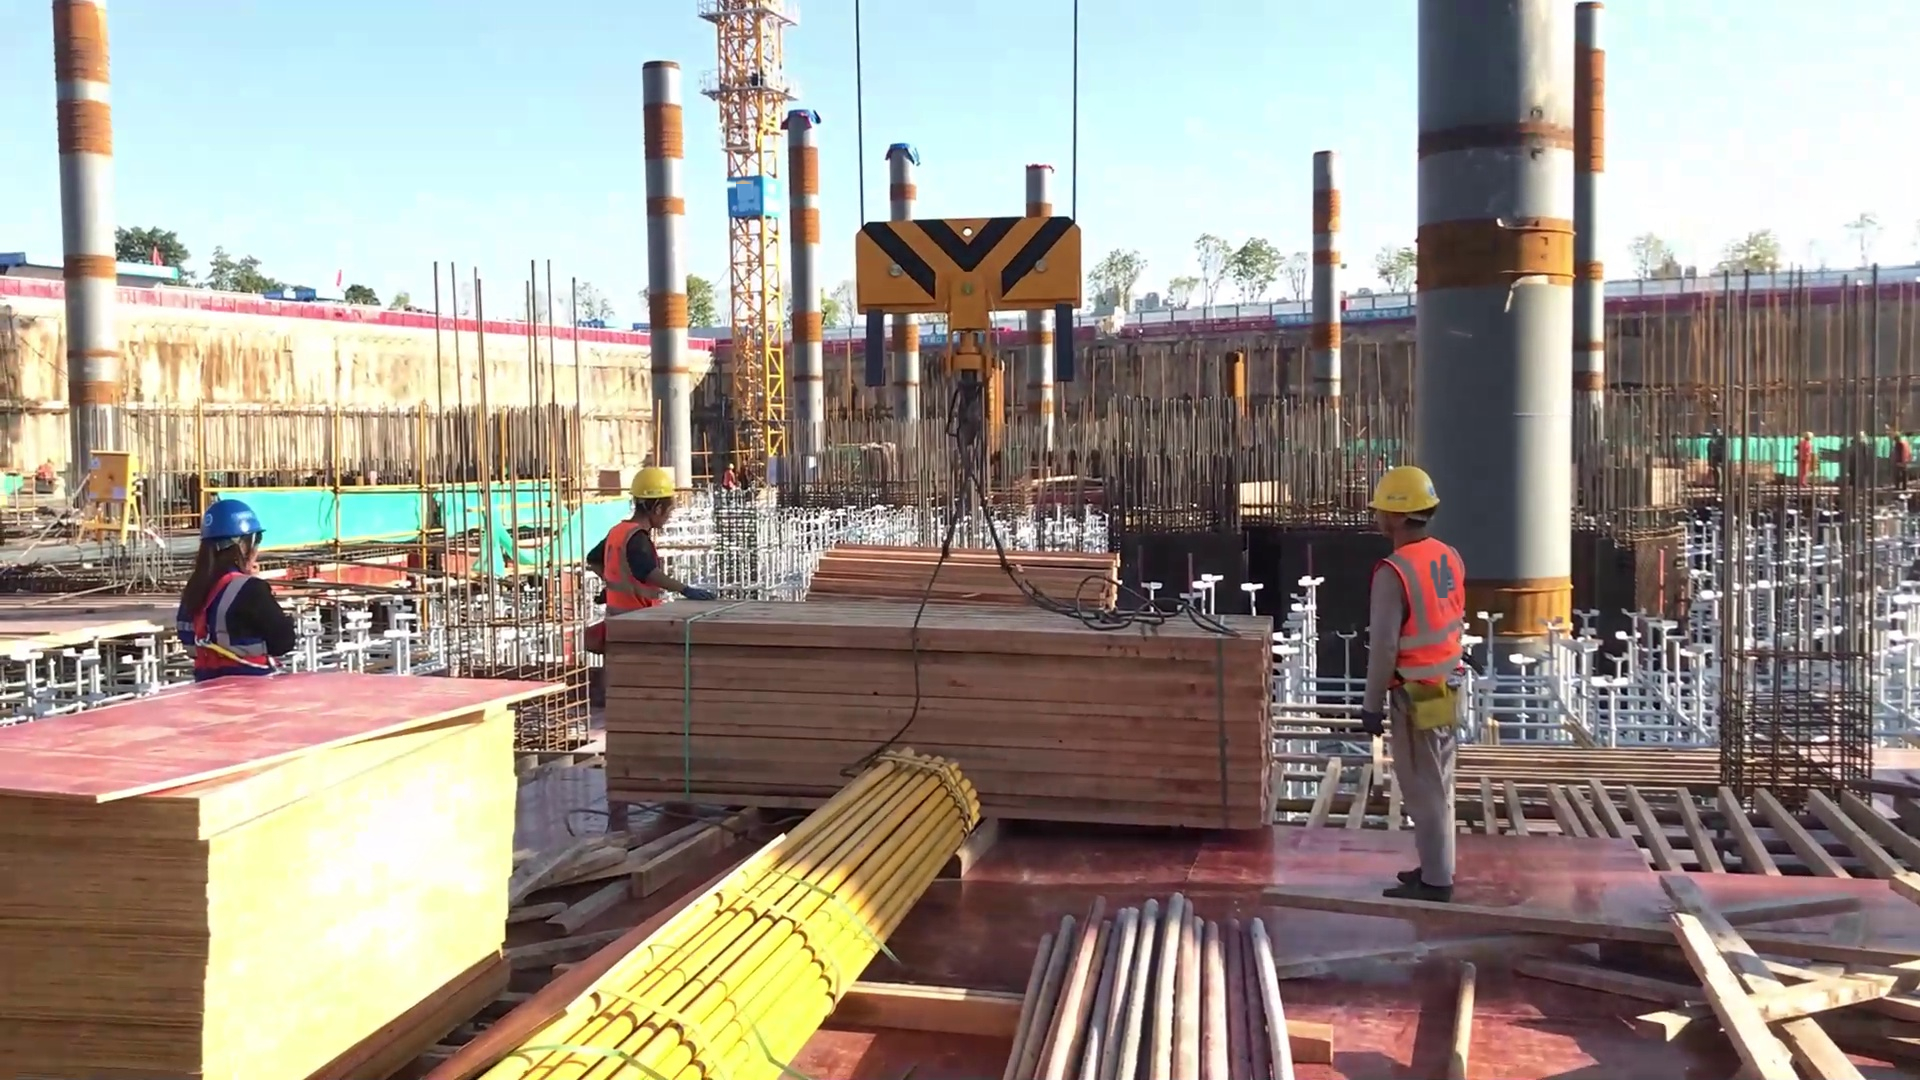board: (9, 674, 578, 1080)
ebox: (81, 438, 154, 554)
helmet: (1361, 454, 1459, 516), (196, 484, 275, 549), (604, 464, 686, 515)
hook: (844, 199, 1100, 441)
person: (1335, 437, 1509, 914), (173, 489, 313, 691), (573, 453, 697, 642)
rebar: (1002, 893, 1299, 1080)
vest: (171, 565, 286, 676), (1369, 542, 1465, 670), (593, 511, 677, 624)
wood: (590, 595, 1288, 842)
